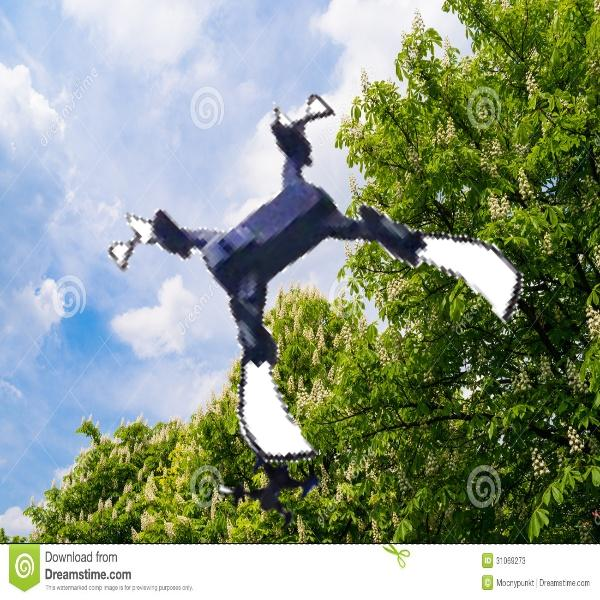drone: (133, 90, 491, 448), (213, 402, 354, 543)
